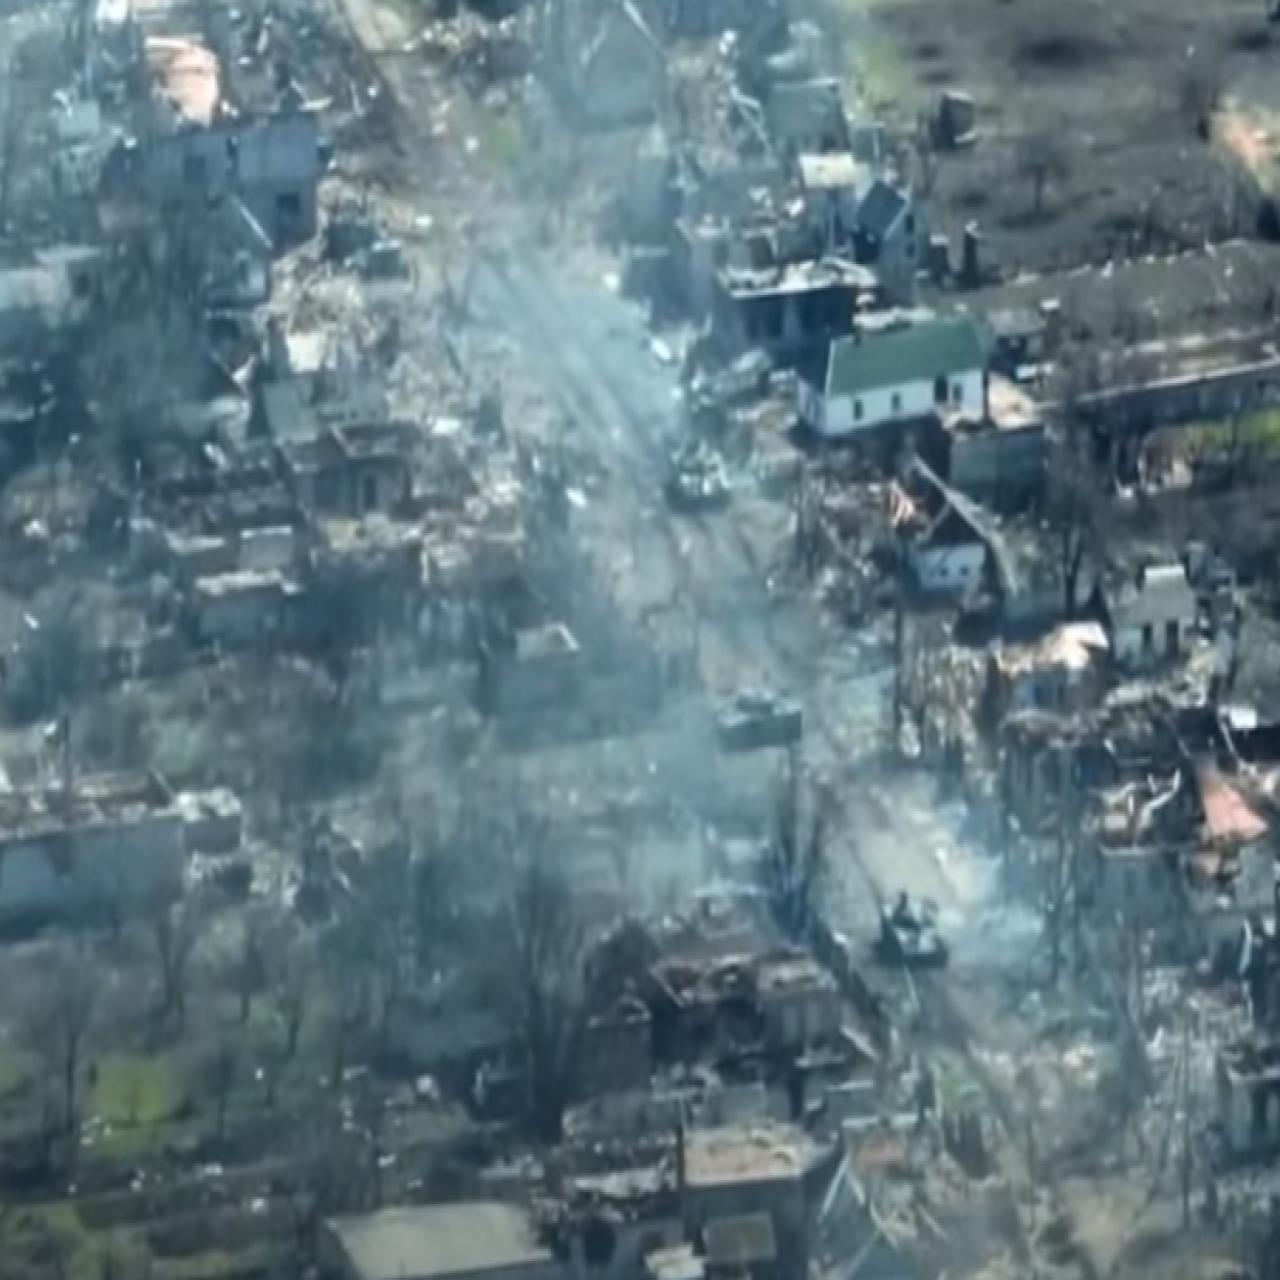MIL_Veh: (859, 886, 951, 970), (652, 434, 740, 520), (698, 681, 808, 748)
